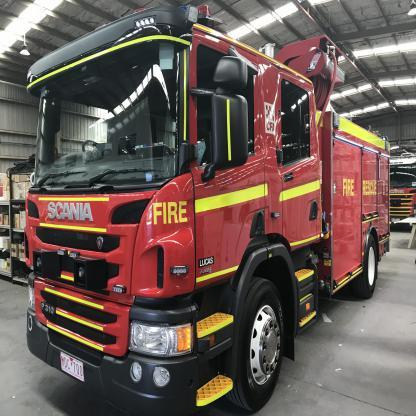fire-truck: (23, 14, 404, 415)
